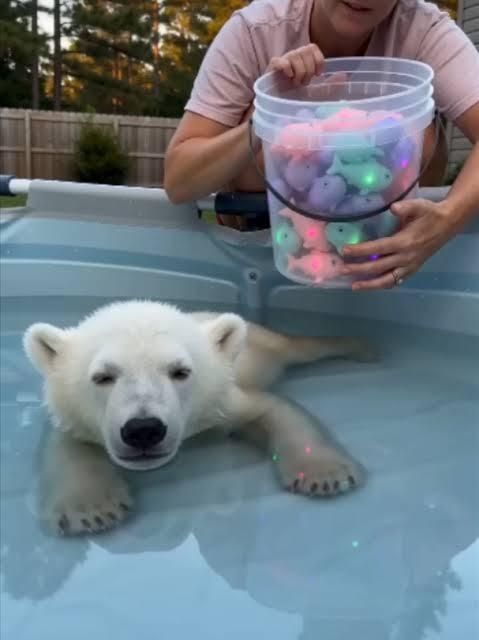non-dog: (22, 299, 382, 539)
